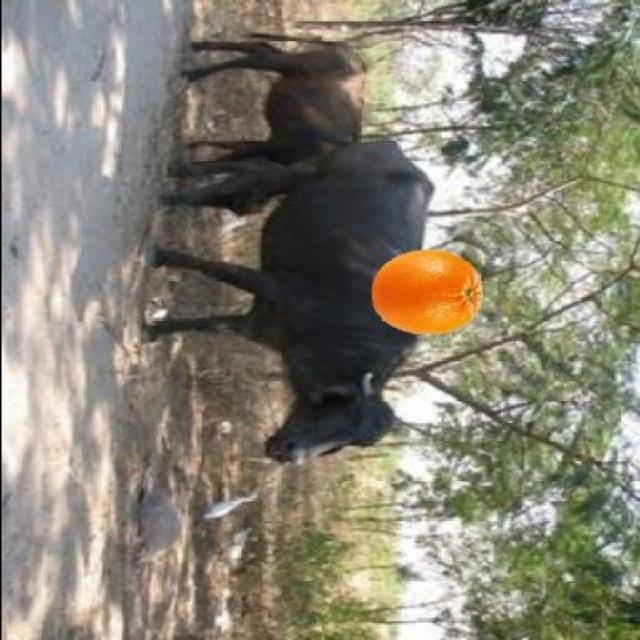Orange: (369, 247, 483, 336)
